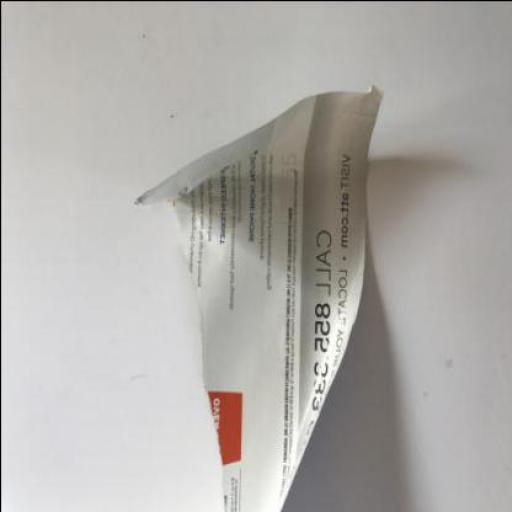paper: (133, 82, 383, 511)
